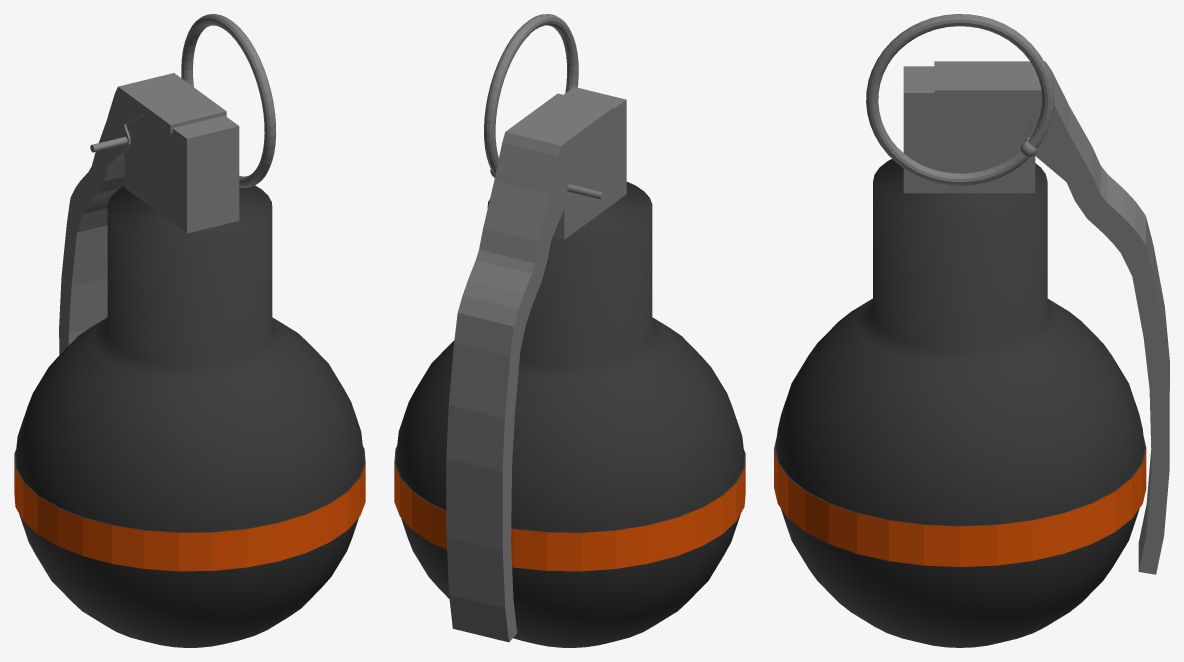
Rendered from Stinger Grenade.fbx.
3 renders of one model, left to right at view 1: azimuth 30°, elevation 25°; view 2: azimuth 150°, elevation 25°; view 3: azimuth 270°, elevation 25°, orthographic. The views are drawn at different scales.
Visible parts, largest first — view 1: Stinger, Stinger Spoon, Stinger Pin; view 2: Stinger, Stinger Spoon, Stinger Pin; view 3: Stinger, Stinger Spoon, Stinger Pin.
Part boxes in pixels (left/top/right/bottom): Stinger: left=14, top=114, right=365, bottom=647; Stinger Spoon: left=59, top=73, right=226, bottom=354; Stinger Pin: left=90, top=14, right=276, bottom=187; Stinger: left=394, top=87, right=745, bottom=647; Stinger Spoon: left=446, top=93, right=613, bottom=642; Stinger Pin: left=484, top=14, right=604, bottom=199; Stinger: left=774, top=66, right=1146, bottom=647; Stinger Spoon: left=934, top=61, right=1169, bottom=574; Stinger Pin: left=866, top=14, right=1054, bottom=185.
Size of the model in its own units: 136 by 256 by 144.
